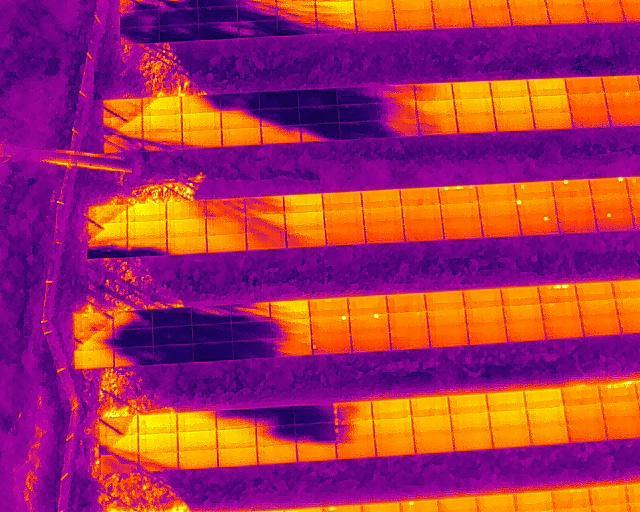Cell: (518, 215, 560, 235), (595, 210, 635, 230), (349, 313, 389, 333), (310, 315, 349, 335), (516, 197, 557, 215), (514, 180, 554, 197), (590, 177, 629, 194), (553, 179, 592, 195), (605, 92, 640, 109)
Cell-Multi: (599, 384, 637, 403), (437, 186, 478, 202)
No-Anomaly: (433, 6, 472, 29), (355, 8, 394, 31), (364, 221, 403, 244), (566, 420, 606, 442), (556, 212, 597, 233), (442, 217, 483, 238), (137, 432, 178, 453), (403, 219, 442, 241), (452, 429, 491, 451), (394, 8, 434, 29), (480, 215, 522, 235), (528, 423, 568, 444), (217, 446, 257, 467), (165, 235, 206, 255), (471, 6, 510, 27), (176, 410, 215, 431), (137, 413, 176, 434), (491, 427, 530, 448), (141, 95, 181, 115), (548, 4, 588, 24), (270, 300, 310, 320), (428, 327, 468, 347), (217, 428, 257, 448), (177, 430, 217, 450), (257, 445, 297, 465), (585, 0, 623, 21), (373, 399, 411, 420), (510, 5, 549, 25), (544, 320, 583, 340), (467, 326, 506, 346), (390, 330, 429, 350), (410, 397, 449, 417), (296, 443, 337, 462), (177, 450, 218, 469), (182, 130, 222, 149), (126, 203, 166, 222), (166, 218, 206, 237), (426, 291, 464, 311), (311, 336, 351, 355), (449, 395, 487, 415), (527, 405, 565, 425), (415, 433, 453, 453), (374, 438, 414, 457), (325, 226, 364, 245), (463, 289, 502, 308), (387, 294, 426, 313), (351, 333, 390, 352), (486, 393, 525, 412), (524, 390, 563, 409), (373, 418, 412, 437), (582, 318, 619, 338), (456, 115, 497, 133), (489, 80, 530, 98), (501, 287, 539, 306), (553, 489, 591, 508), (494, 113, 534, 131), (221, 129, 261, 147), (126, 221, 166, 239), (206, 235, 246, 253), (347, 294, 387, 312), (604, 419, 640, 439), (400, 188, 439, 206), (284, 194, 323, 212), (465, 308, 504, 326), (505, 324, 544, 342), (73, 350, 112, 368), (489, 409, 528, 427), (453, 99, 494, 116), (571, 111, 612, 128), (532, 113, 573, 130), (577, 282, 613, 301), (541, 302, 579, 320), (428, 310, 466, 328), (568, 93, 608, 110), (284, 213, 324, 230), (308, 298, 348, 315), (335, 442, 375, 459), (504, 306, 541, 324), (321, 192, 360, 209), (592, 195, 631, 212), (389, 313, 428, 330), (560, 387, 599, 404), (450, 413, 489, 430), (478, 494, 517, 511), (414, 83, 453, 100), (530, 96, 571, 112), (491, 97, 532, 113), (563, 404, 604, 420), (591, 485, 627, 503), (517, 493, 553, 511), (579, 300, 617, 317), (142, 115, 182, 131), (181, 114, 221, 130), (361, 190, 401, 206), (476, 183, 516, 199), (554, 196, 594, 212), (565, 78, 605, 94), (527, 79, 567, 95), (452, 82, 492, 98), (401, 205, 440, 221), (363, 206, 402, 222), (324, 210, 363, 226), (477, 199, 515, 215), (602, 402, 640, 418), (411, 418, 450, 433), (415, 101, 456, 115), (439, 202, 480, 216), (602, 77, 640, 92), (610, 109, 640, 126)
Shadowing: (270, 318, 311, 340), (271, 336, 312, 358), (103, 132, 143, 153), (315, 12, 355, 33), (285, 227, 325, 248), (231, 302, 271, 323), (73, 311, 113, 332), (417, 115, 458, 135), (231, 338, 272, 358), (215, 409, 256, 429), (333, 421, 374, 441), (192, 323, 232, 343), (153, 345, 192, 365), (255, 425, 294, 445), (165, 201, 205, 220), (191, 304, 231, 323), (152, 308, 192, 327), (113, 310, 153, 329), (293, 404, 333, 423), (256, 406, 294, 426), (295, 424, 335, 443), (98, 435, 138, 454), (333, 402, 373, 421), (206, 198, 245, 217), (246, 230, 285, 249), (276, 15, 315, 34), (98, 416, 137, 435), (236, 2, 277, 20), (260, 127, 301, 145), (339, 122, 380, 140), (85, 205, 126, 223), (125, 239, 166, 257), (158, 24, 199, 42), (231, 321, 272, 339), (192, 342, 233, 360), (113, 347, 154, 365), (100, 454, 138, 473), (197, 4, 237, 22), (205, 216, 245, 234), (237, 19, 277, 37), (152, 327, 192, 345), (73, 332, 113, 350), (298, 89, 338, 107), (85, 224, 127, 241), (119, 8, 158, 26), (198, 22, 237, 40), (260, 90, 299, 108), (180, 96, 221, 113), (377, 120, 418, 137), (300, 125, 341, 142), (86, 240, 127, 257), (112, 329, 153, 346), (220, 94, 260, 111), (102, 98, 142, 115), (260, 109, 300, 126), (142, 132, 182, 149), (299, 108, 339, 125), (158, 7, 198, 24), (120, 27, 160, 44), (138, 452, 178, 469), (378, 102, 417, 119), (221, 111, 260, 128), (245, 197, 284, 214), (245, 214, 284, 231), (338, 88, 377, 105), (101, 115, 142, 131), (338, 105, 378, 121), (376, 85, 415, 101)
Unclassified: (539, 284, 577, 304)
